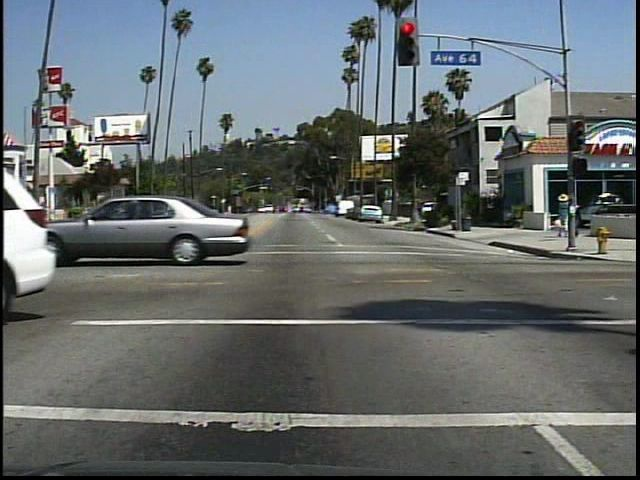person: (551, 189, 570, 241)
